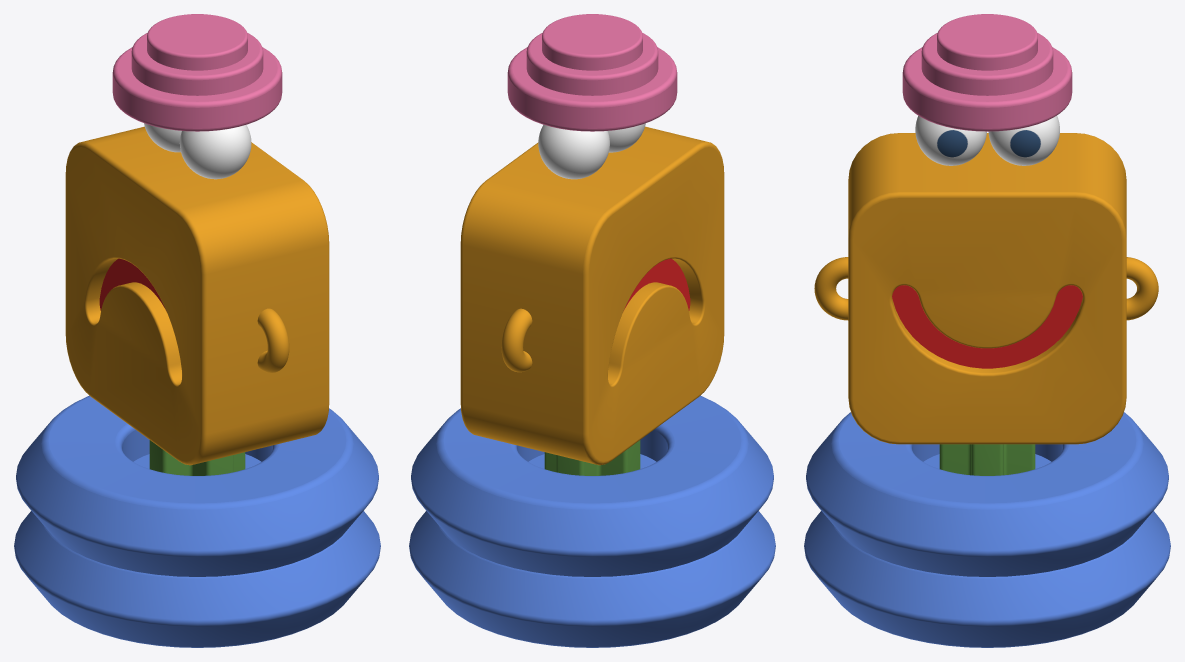
File: flippers.glb
The picture shows the model from 3 angles, left to right: view 1: azimuth 30°, elevation 25°; view 2: azimuth 150°, elevation 25°; view 3: azimuth 270°, elevation 25°; orthographic projection.
Visible parts, largest first — view 1: Cube, Cylinder, Cylinder.001, Cylinder.002, Cylinder.004, Cylinder.003, Sphere, Cube.001, Torus.001, Sphere.001; view 2: Cube, Cylinder, Cylinder.001, Cylinder.002, Cylinder.004, Cylinder.003, Sphere.001, Cube.001, Torus.002, Sphere; view 3: Cube, Cylinder, Cylinder.001, Cylinder.002, Cylinder.004, Cylinder.003, Cube.001, Sphere.001, Sphere, Torus.001, Torus.002.
Part boxes in pixels (left/top/right/bottom): Cube: left=65, top=126, right=329, bottom=465; Cylinder: left=16, top=395, right=378, bottom=576; Cylinder.001: left=14, top=511, right=380, bottom=647; Cylinder.002: left=112, top=47, right=282, bottom=131; Cylinder.004: left=147, top=14, right=247, bottom=70; Cylinder.003: left=131, top=33, right=263, bottom=95; Sphere: left=179, top=125, right=251, bottom=179; Cube.001: left=149, top=440, right=245, bottom=475; Torus.001: left=257, top=308, right=289, bottom=372; Sphere.001: left=144, top=123, right=181, bottom=152; Cube: left=460, top=126, right=724, bottom=465; Cylinder: left=411, top=395, right=773, bottom=576; Cylinder.001: left=409, top=511, right=775, bottom=647; Cylinder.002: left=507, top=47, right=677, bottom=131; Cylinder.004: left=542, top=14, right=642, bottom=70; Cylinder.003: left=526, top=33, right=658, bottom=95; Sphere.001: left=538, top=124, right=609, bottom=179; Cube.001: left=544, top=440, right=640, bottom=475; Torus.002: left=501, top=308, right=532, bottom=372; Sphere: left=608, top=123, right=645, bottom=152; Cube: left=848, top=133, right=1126, bottom=444; Cylinder: left=806, top=412, right=1168, bottom=576; Cylinder.001: left=804, top=511, right=1170, bottom=647; Cylinder.002: left=902, top=47, right=1072, bottom=131; Cylinder.004: left=937, top=14, right=1037, bottom=70; Cylinder.003: left=921, top=33, right=1053, bottom=95; Cube.001: left=939, top=444, right=1035, bottom=475; Sphere.001: left=988, top=115, right=1059, bottom=165; Sphere: left=915, top=116, right=986, bottom=165; Torus.001: left=814, top=257, right=848, bottom=320; Torus.002: left=1126, top=257, right=1158, bottom=320.
Bounding box in the file's own units: 2.64 × 4.36 × 2.64.
Materials: 6 (1 with a texture image).
